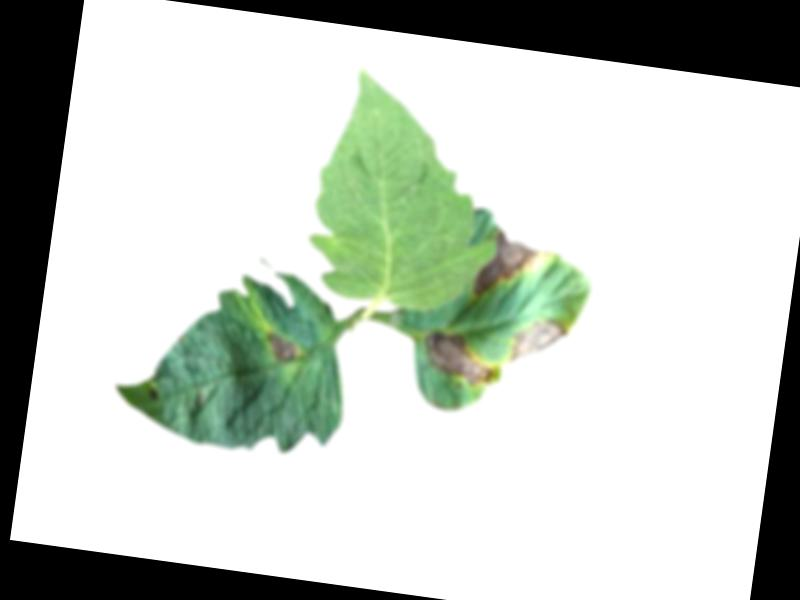Early_blight: (472, 225, 538, 302), (422, 327, 501, 386), (509, 315, 573, 373), (264, 327, 301, 366), (146, 385, 161, 402)
